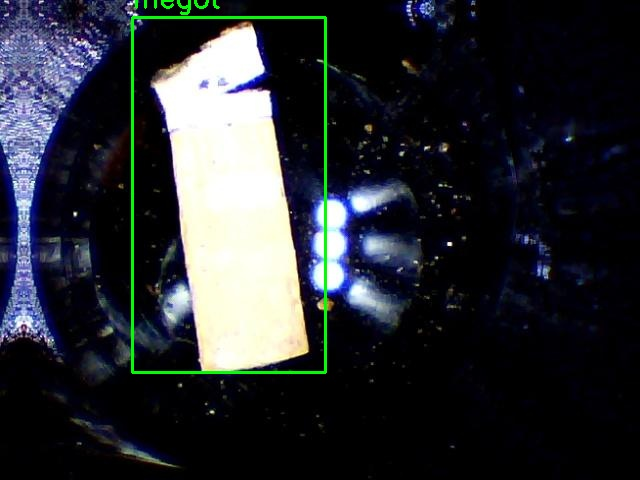megot: (132, 17, 325, 372)
